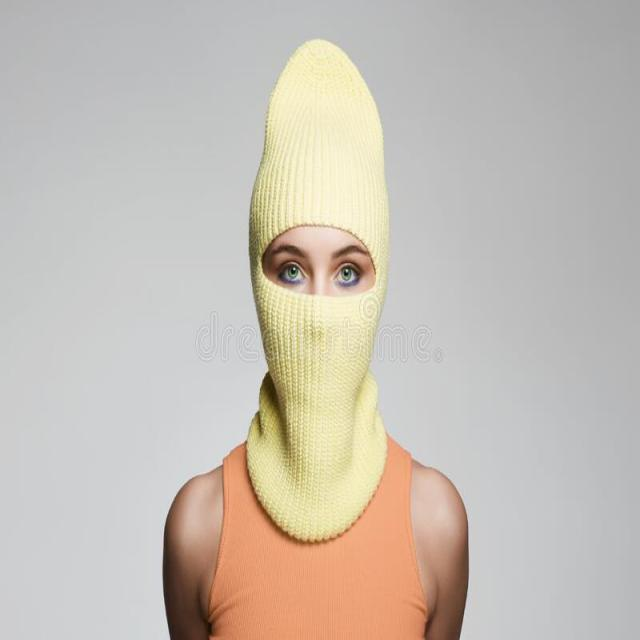6_pasamontana: (246, 37, 387, 544)
